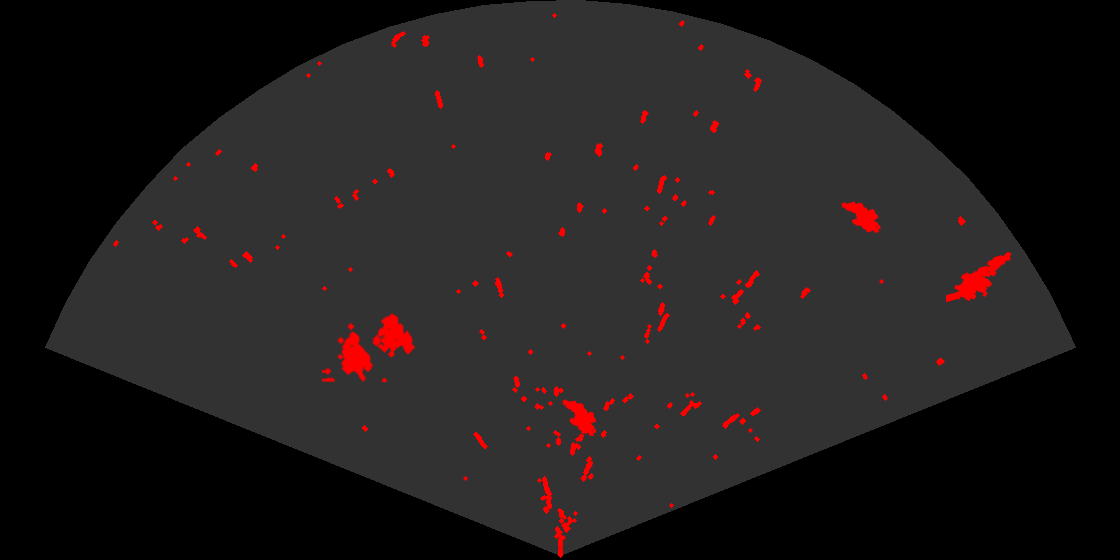AUV: (561, 398, 598, 438), (840, 200, 882, 235)
cage: (322, 312, 417, 382)
frogman: (946, 250, 1013, 304)
